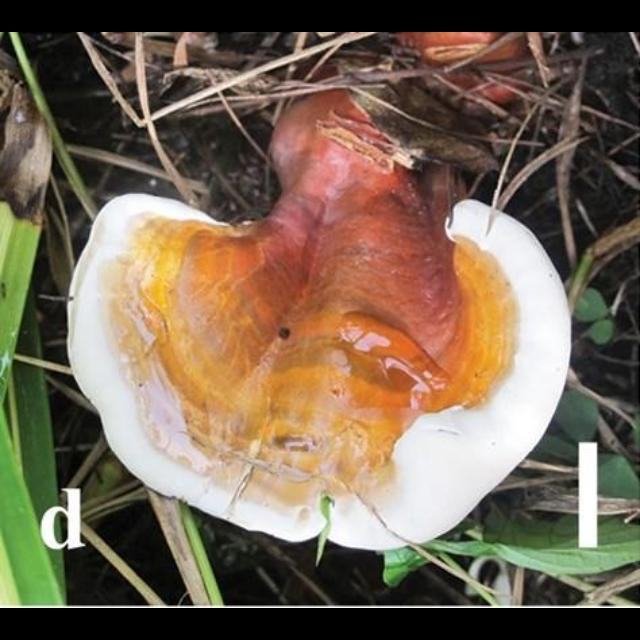ganoderma: (65, 169, 578, 555)
